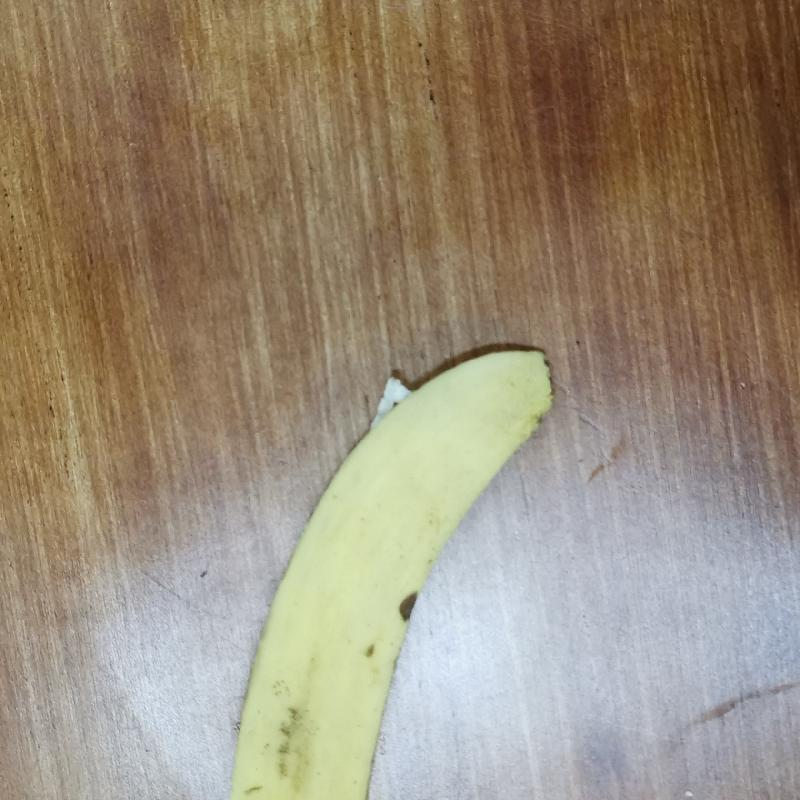bananas: (227, 340, 557, 800)
